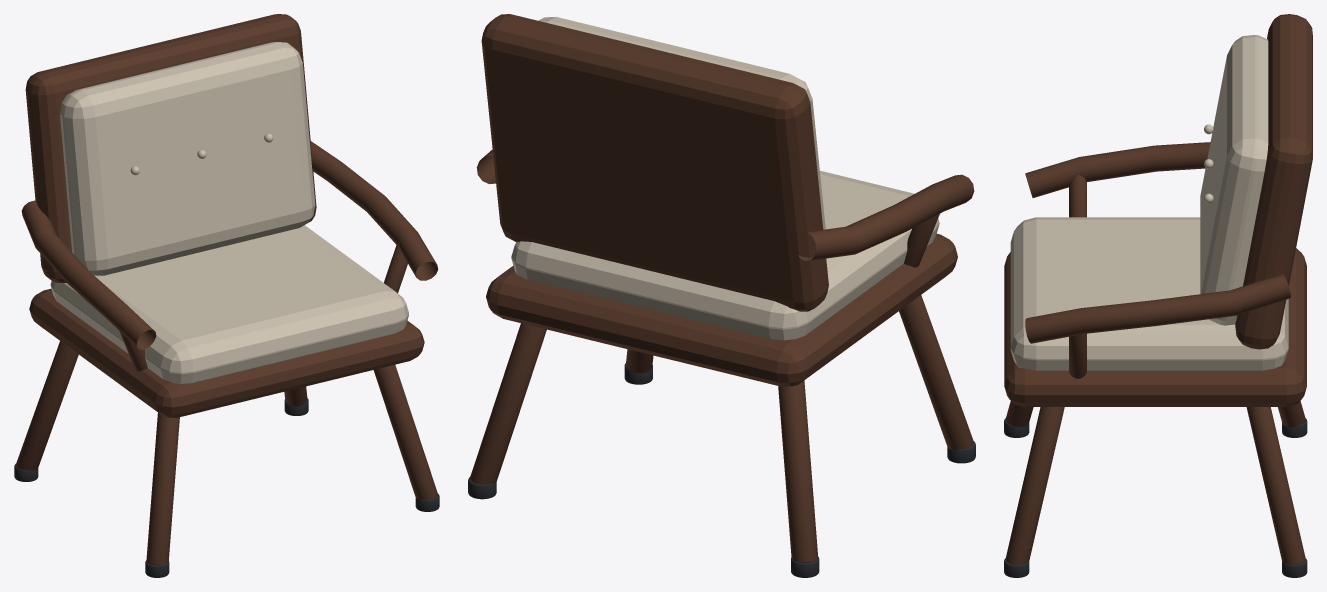
The model's file is contemporary-lounge-chair.glb.
3 views of the same model, side by side, from view 1: azimuth 30°, elevation 25°; view 2: azimuth 150°, elevation 25°; view 3: azimuth 270°, elevation 25° (orthographic). The views are drawn at different scales.
Parts seen in each view (by area): view 1: Natural upholstery, Smoked walnut, Soft black; view 2: Smoked walnut, Natural upholstery, Soft black; view 3: Smoked walnut, Natural upholstery, Soft black.
Boxes of the visible parts, x1,y1,x2,y2 form: Natural upholstery: (50,42,408,384); Smoked walnut: (16,14,438,565); Soft black: (14,398,439,577); Smoked walnut: (470,14,974,562); Natural upholstery: (511,17,939,340); Soft black: (468,363,975,577); Smoked walnut: (1004,14,1312,564); Natural upholstery: (1010,35,1288,370); Soft black: (1004,418,1307,577).
Size of the model in its own units: 0.958 by 1.15 by 0.7558.
